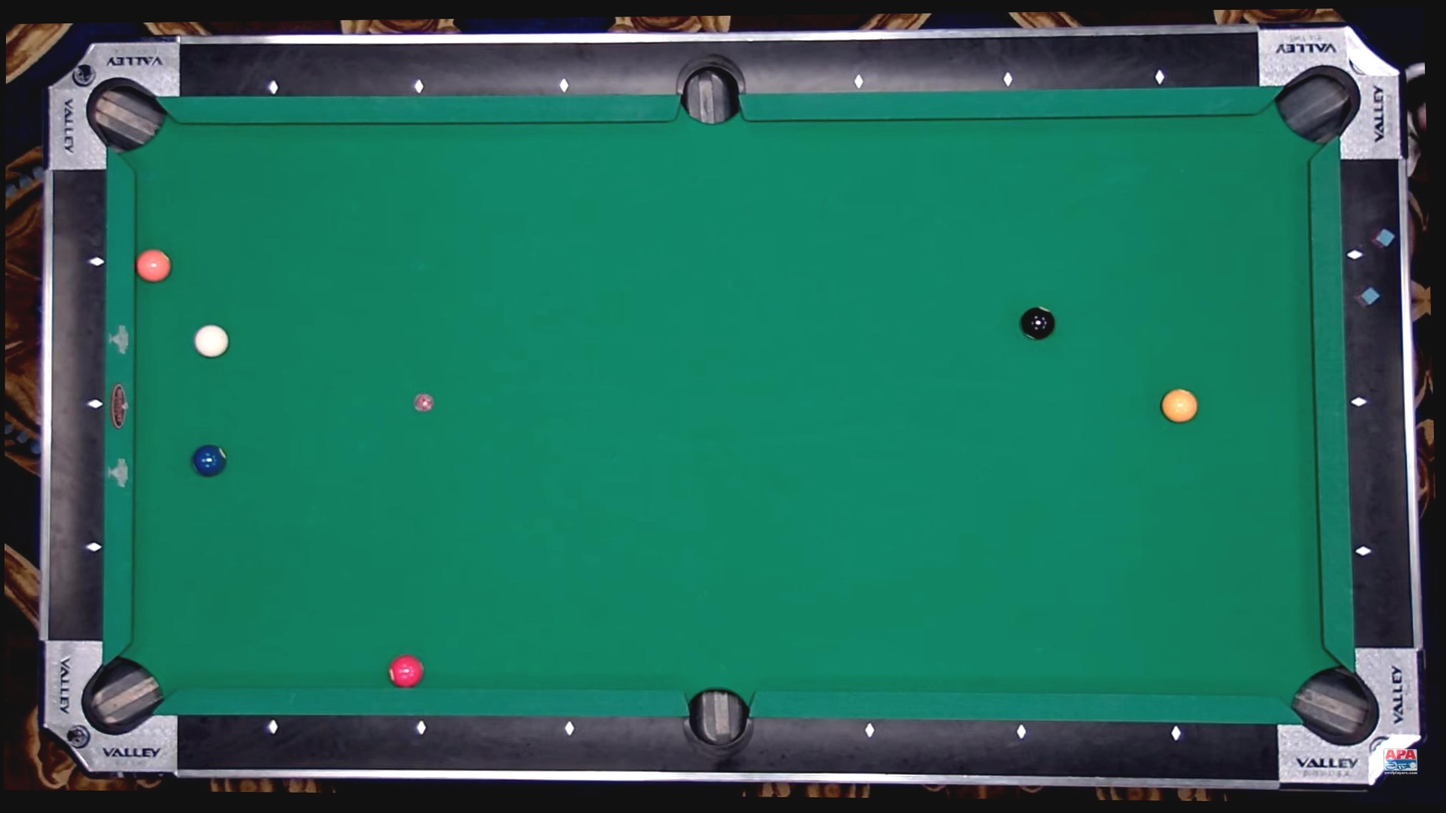Black: (1003, 74, 1014, 85), (1154, 72, 1165, 83), (1350, 251, 1361, 262), (1357, 545, 1368, 556), (87, 543, 98, 553), (90, 399, 101, 409), (414, 80, 424, 91), (558, 81, 569, 91), (1171, 729, 1182, 739), (1016, 727, 1026, 738), (863, 725, 874, 735), (563, 723, 573, 734), (267, 722, 278, 732), (91, 255, 101, 265), (270, 82, 280, 92), (855, 76, 865, 86), (1354, 398, 1364, 408), (415, 723, 425, 733)
Cue: (136, 248, 172, 283), (1162, 388, 1197, 423), (389, 654, 425, 688), (192, 444, 227, 477)
Solid: (1020, 306, 1057, 340)
Stripe: (195, 324, 230, 359)
